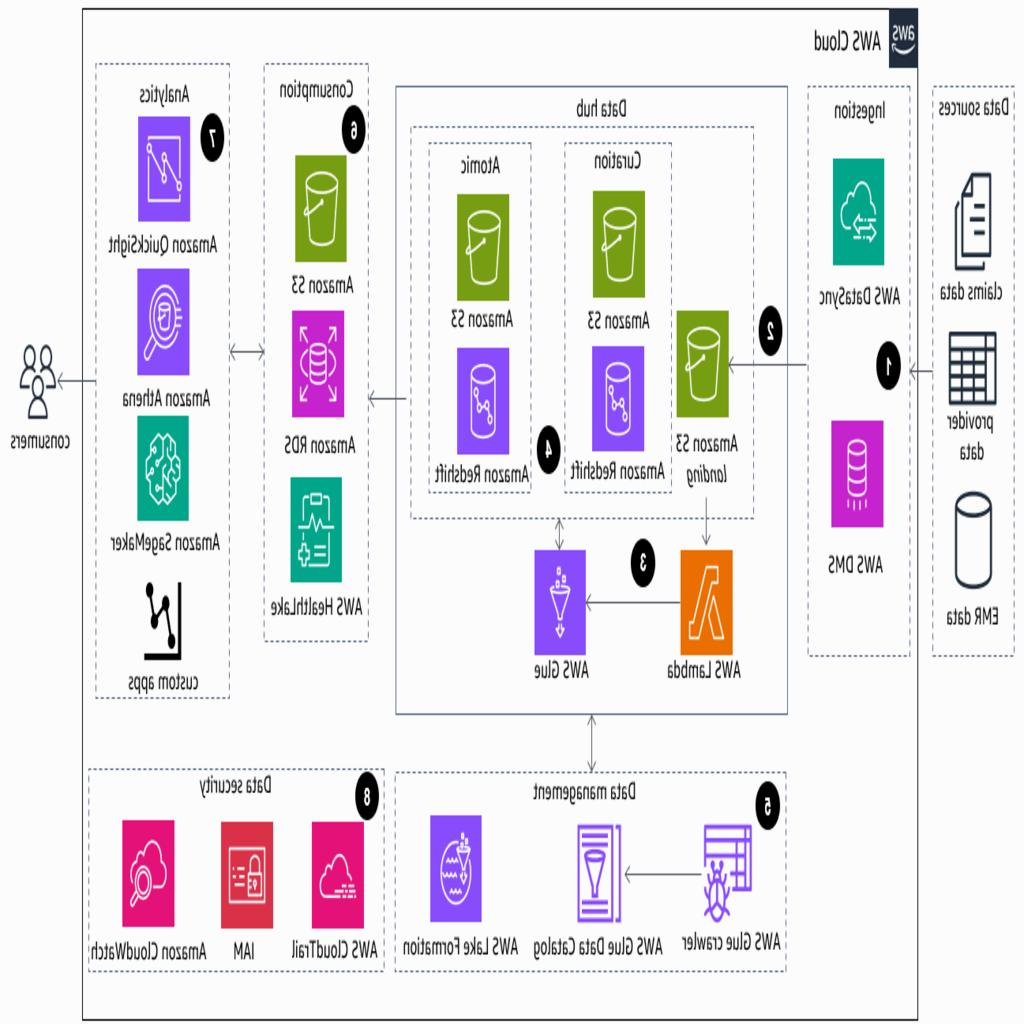actor: (16, 338, 70, 461)
compute: (136, 426, 190, 516), (678, 564, 731, 654), (836, 162, 888, 252), (538, 564, 590, 654)
data_flow: (590, 717, 596, 768), (614, 600, 676, 604), (812, 361, 859, 366), (562, 504, 566, 560), (702, 476, 707, 517), (643, 867, 684, 872), (372, 397, 410, 402), (72, 376, 100, 382), (240, 348, 264, 352), (918, 364, 932, 369)
database_storage: (136, 119, 190, 209), (136, 272, 190, 362), (566, 824, 620, 914), (434, 824, 488, 914), (678, 316, 731, 406), (593, 206, 646, 296), (593, 360, 646, 450), (456, 206, 509, 296), (456, 360, 509, 450), (291, 162, 344, 252), (291, 316, 344, 406), (291, 486, 344, 576), (836, 426, 888, 516)
network_security: (316, 824, 370, 914), (127, 824, 180, 914), (222, 824, 274, 914)
trust_boundary: (87, 10, 921, 1014), (396, 86, 790, 713), (456, 122, 784, 517), (96, 64, 230, 698), (396, 767, 790, 972), (91, 767, 396, 972), (263, 80, 372, 653), (808, 80, 916, 653), (932, 80, 1016, 653), (565, 140, 674, 500), (428, 140, 537, 500)
